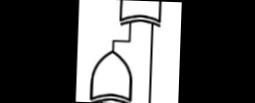xor: (87, 47, 133, 103), (114, 0, 164, 27)
